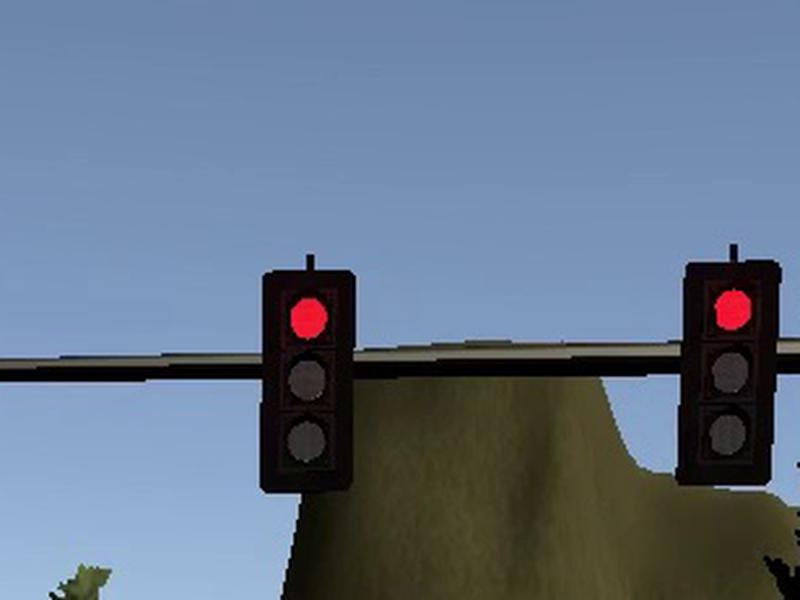Red: (674, 258, 784, 486), (259, 268, 357, 494)
